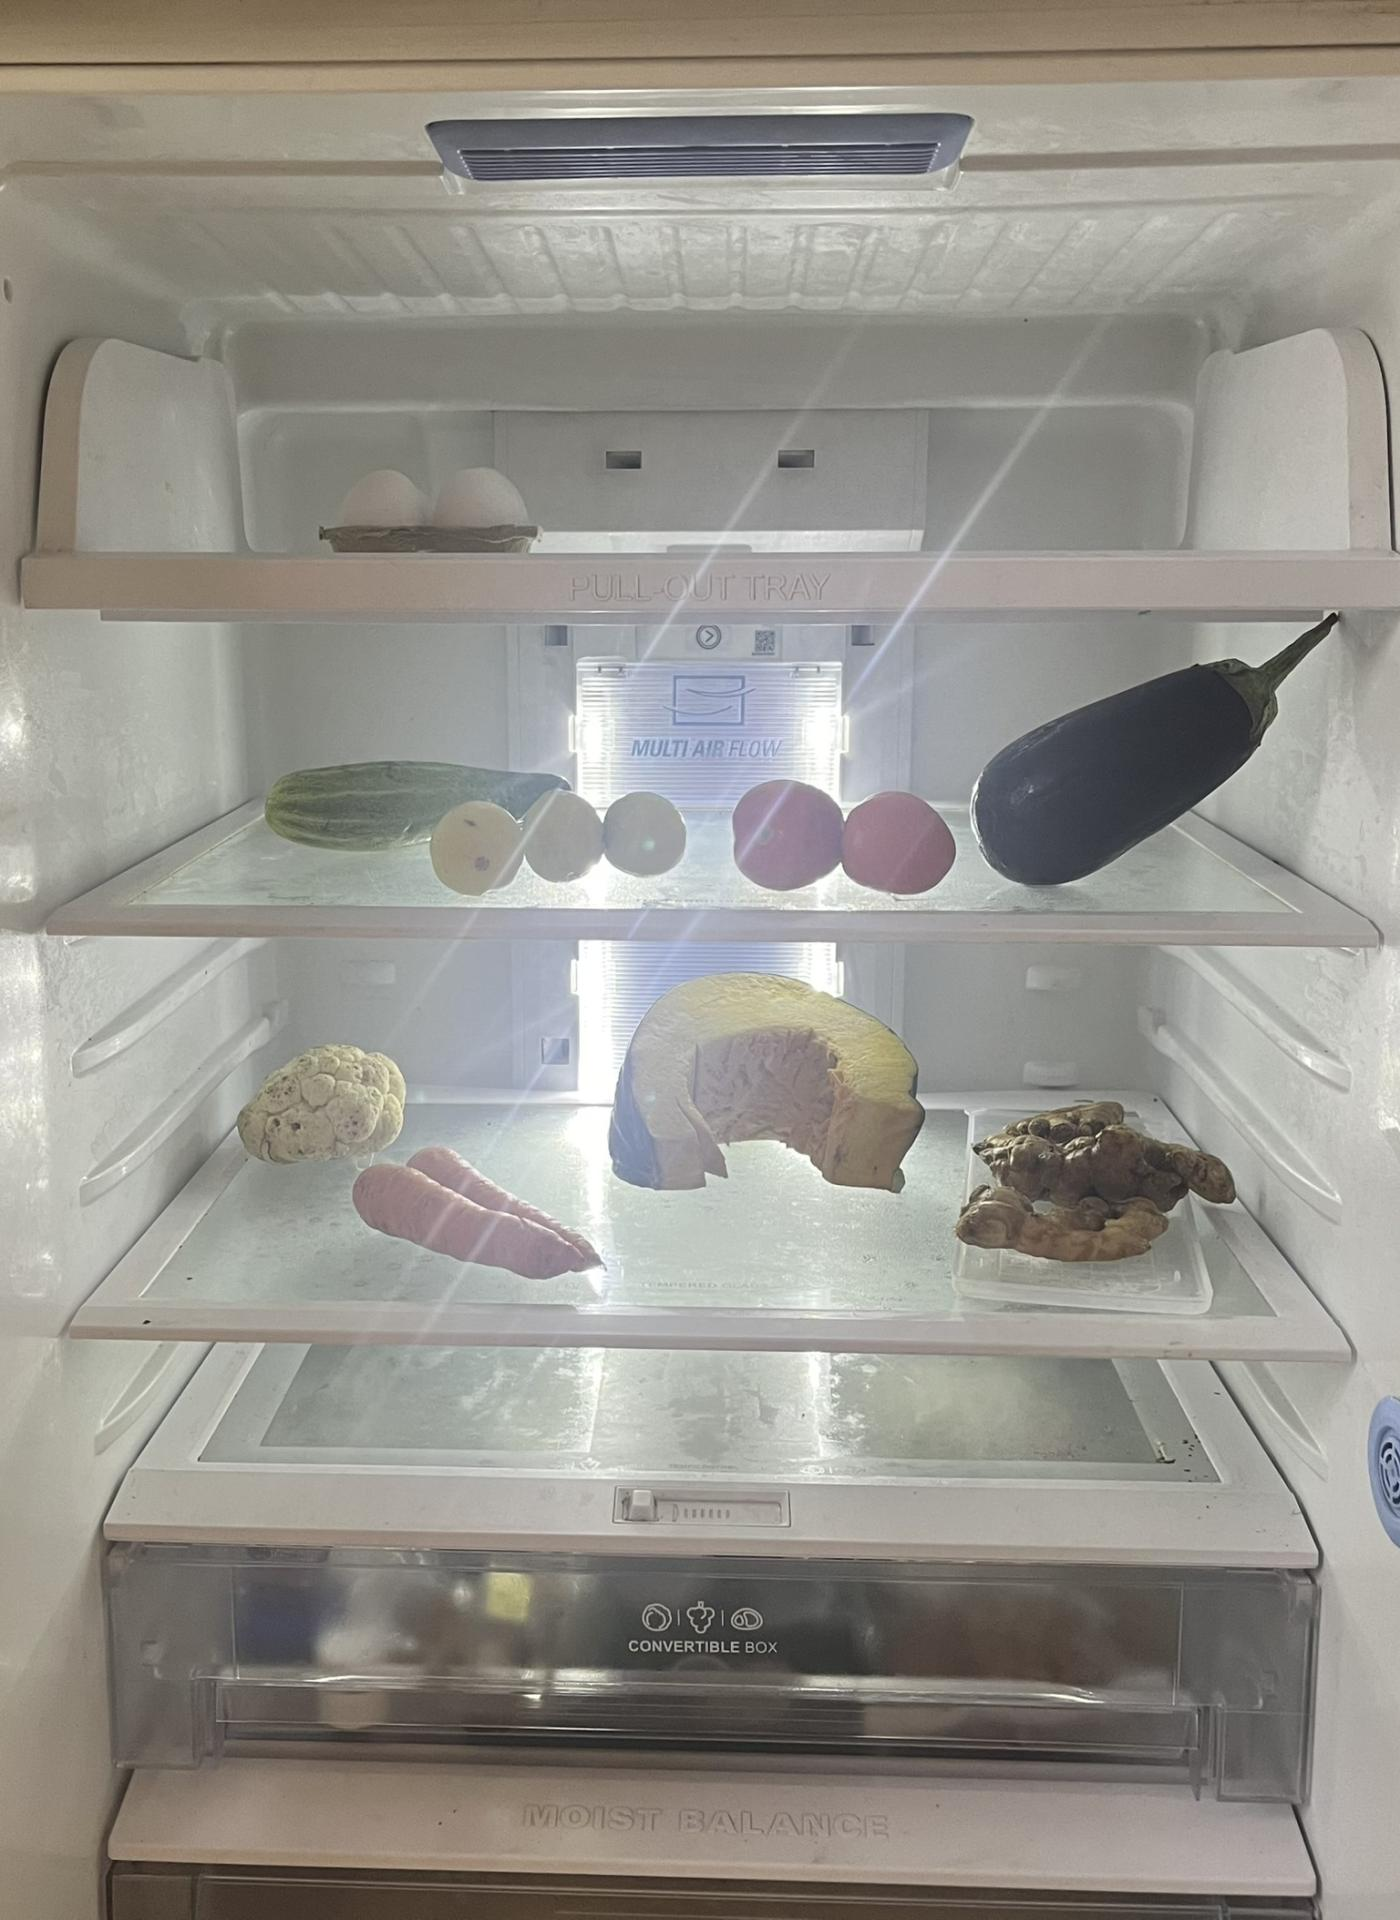carrots: (346, 1143, 608, 1282)
cauliflower: (234, 1046, 419, 1172)
cucumber: (264, 766, 577, 844)
egg: (334, 456, 538, 553)
ginger: (963, 1094, 1249, 1269)
lemon: (428, 798, 525, 897), (601, 784, 683, 881), (528, 784, 598, 894)
pumpkin: (616, 975, 920, 1194)
tomato: (735, 778, 842, 894), (845, 784, 960, 890)
